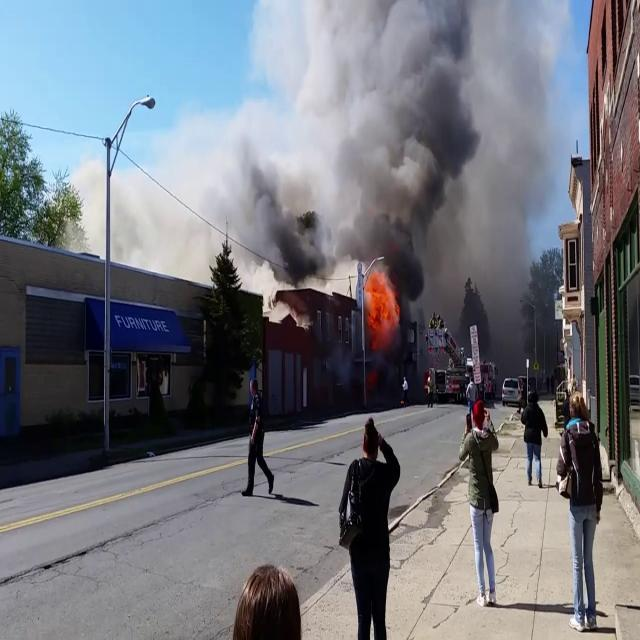Fire: (362, 264, 398, 340)
Smoke: (92, 37, 556, 285), (307, 0, 554, 293)
